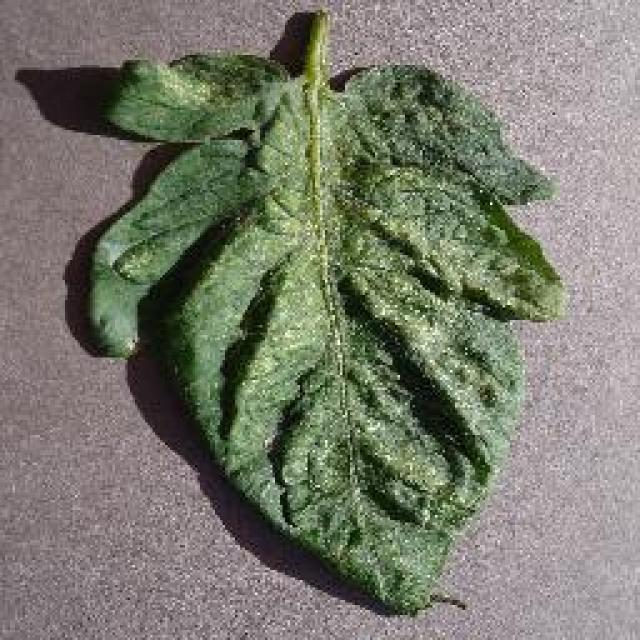Tomato___Spider_mites Two-spotted_spider_mite: (88, 10, 565, 610)
